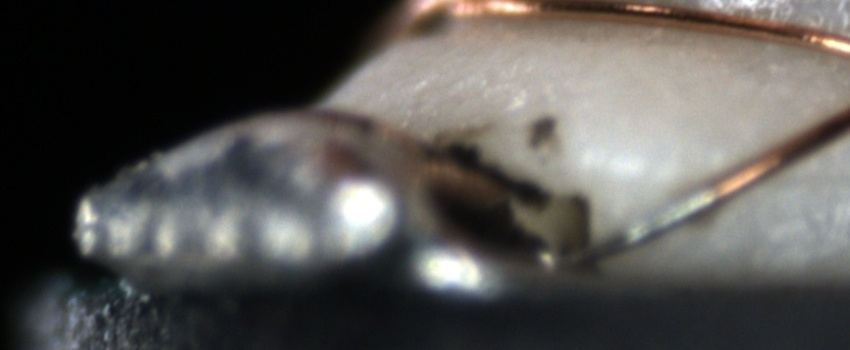DL: (756, 147, 849, 211)
TS: (560, 189, 718, 265)
